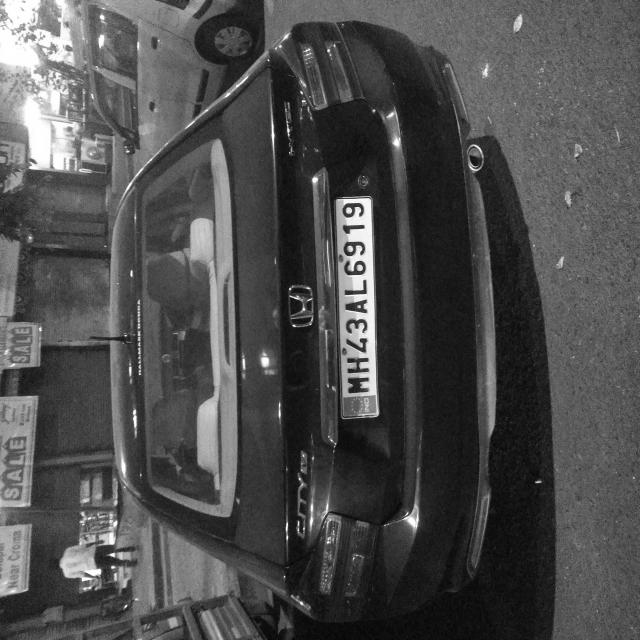car: (9, 147, 467, 640)
license-plate: (163, 451, 332, 503)
